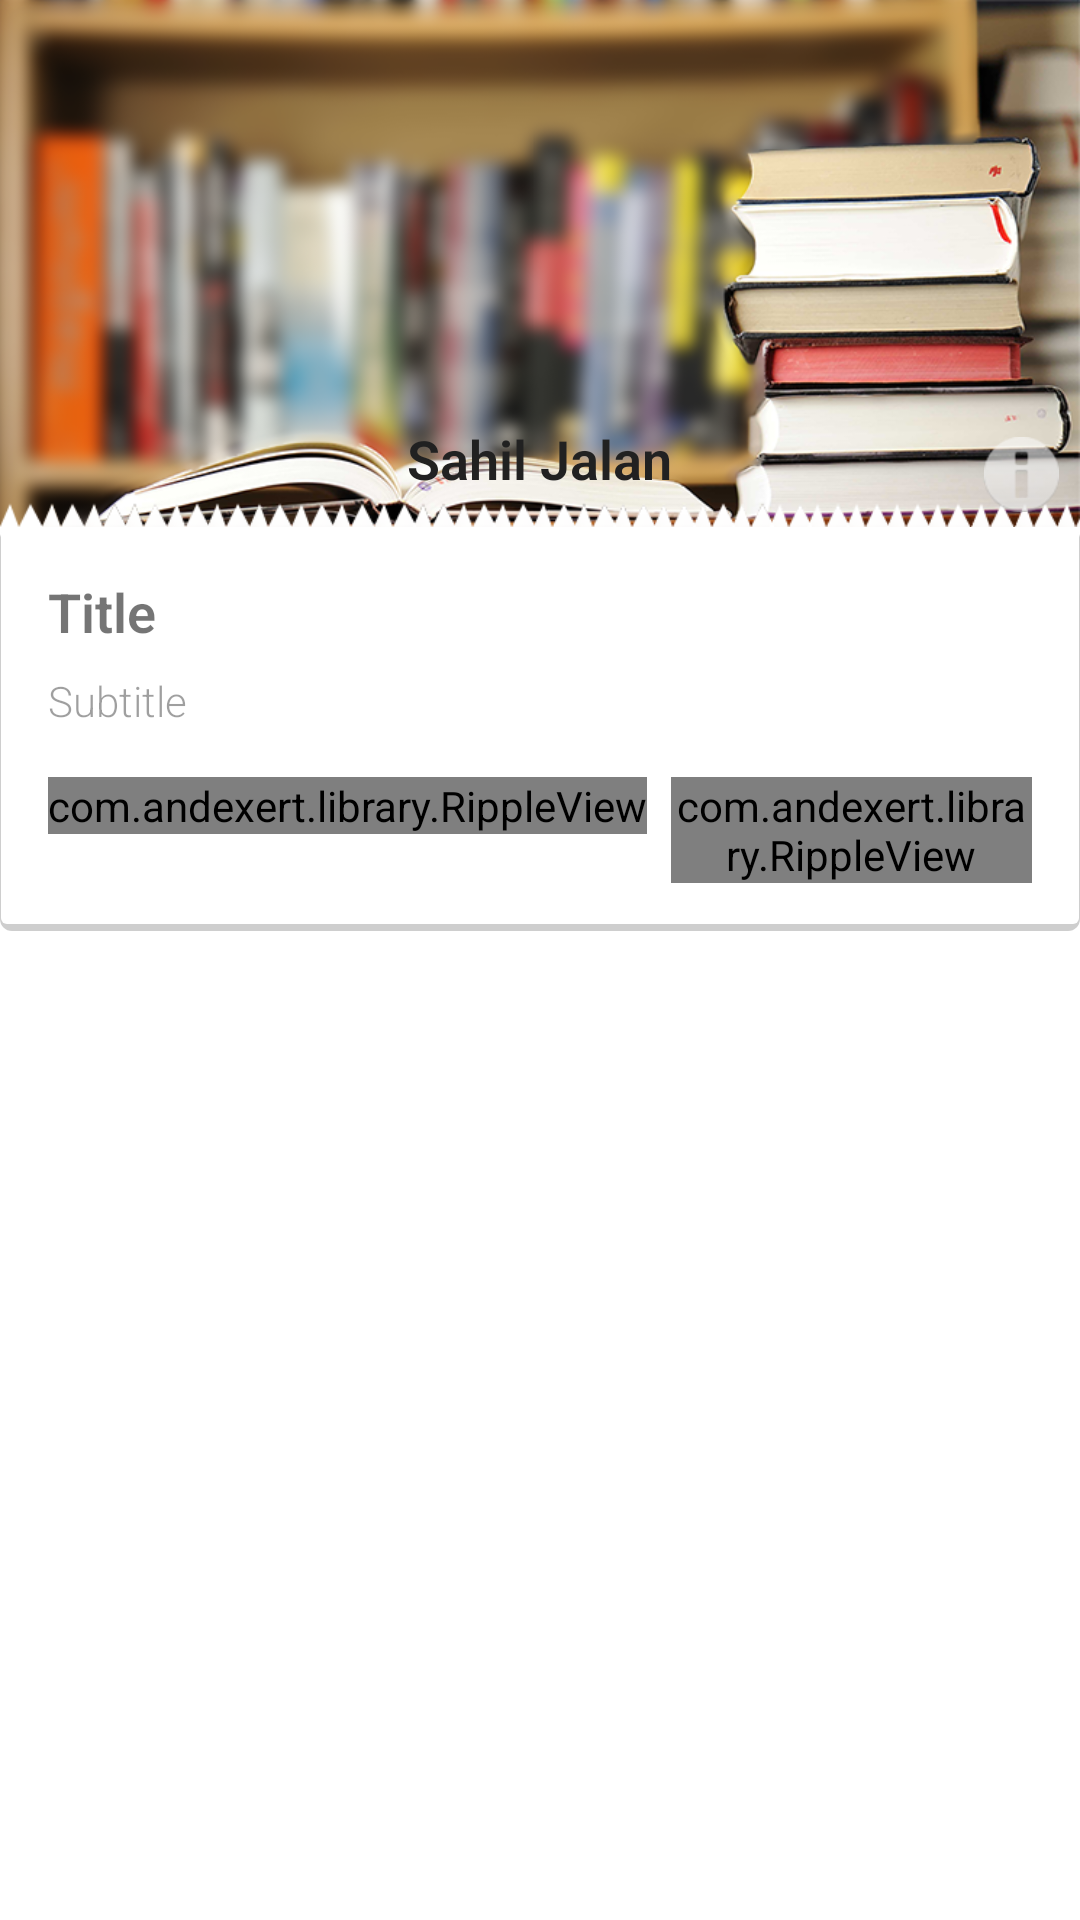

Icons on this 1080px×1920px Android screen, each with the point to tap as (x=x, y=y):
info: (x=1021, y=474)
